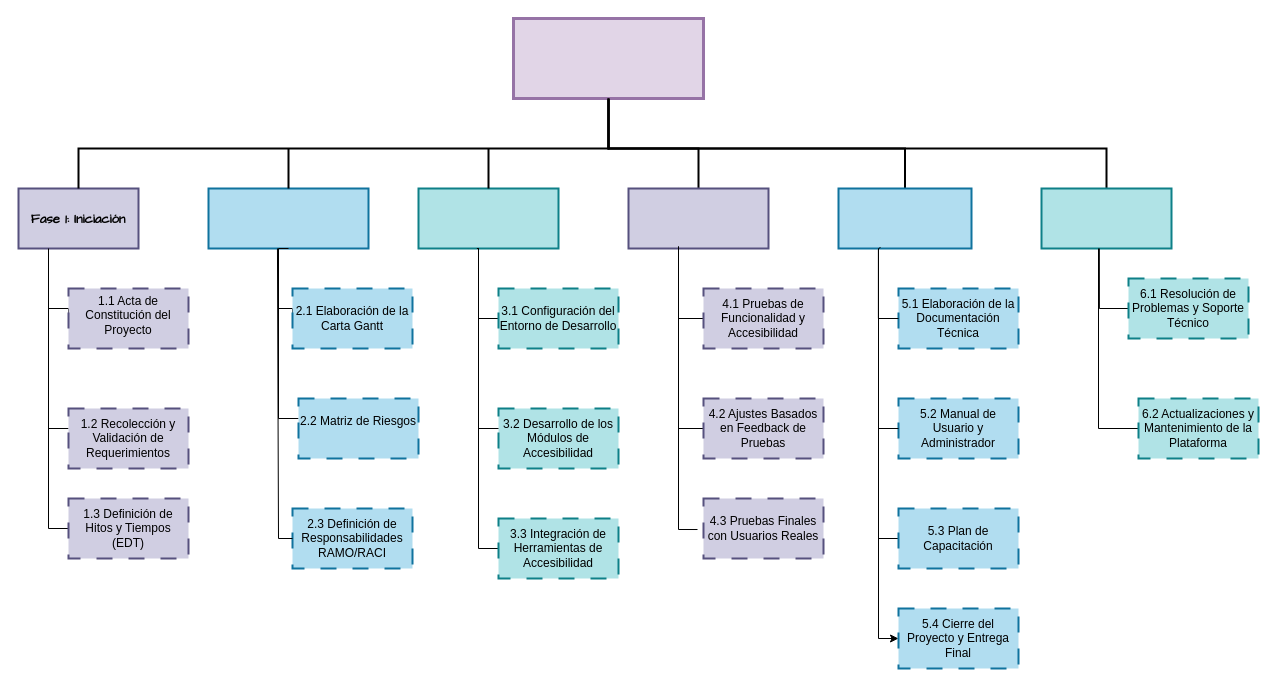
Image size: 1276x687. Some labels were removed from this diagram. The centre of each missing label's shape, as x and y in pixels:
EDT: the point at 608,58
Fase 2: Planificación: the point at 288,218
Fase 3: Desarrollo e Implementación: the point at 488,218
Fase 4: Pruebas y Control de Calidad: the point at 698,218
Fase 5: Documentación y Cierre: the point at 904,218
Fase 6: Soporte Post-Implementación: the point at 1106,218
